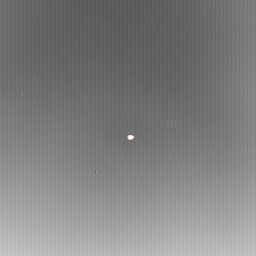Target: (126, 134, 136, 142)
